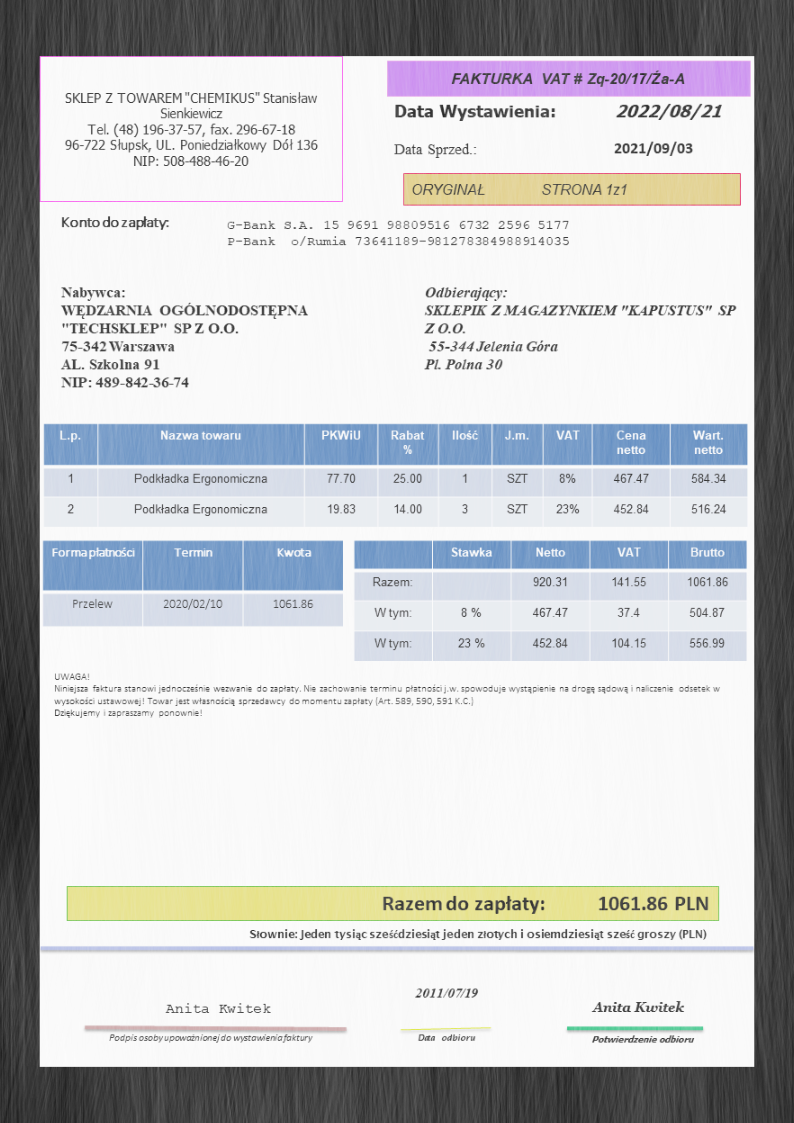Table: (42, 420, 749, 531), (350, 539, 748, 663), (42, 538, 347, 629)
TextBox: (51, 668, 724, 720), (420, 285, 738, 376), (57, 283, 313, 394), (58, 87, 323, 171), (221, 217, 573, 249), (246, 924, 708, 943), (379, 890, 712, 914), (446, 65, 691, 89), (410, 179, 629, 199), (391, 100, 559, 124), (105, 1031, 317, 1044), (615, 98, 725, 121), (56, 213, 172, 233), (389, 140, 481, 159), (588, 998, 689, 1015), (163, 1000, 270, 1016), (611, 141, 696, 158), (590, 1034, 698, 1046), (413, 985, 482, 1000), (416, 1031, 481, 1043)
